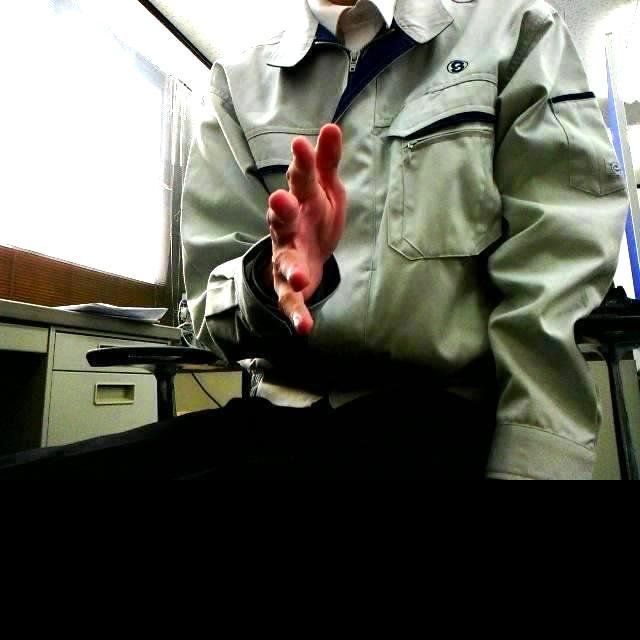pa-: (264, 121, 349, 332)
